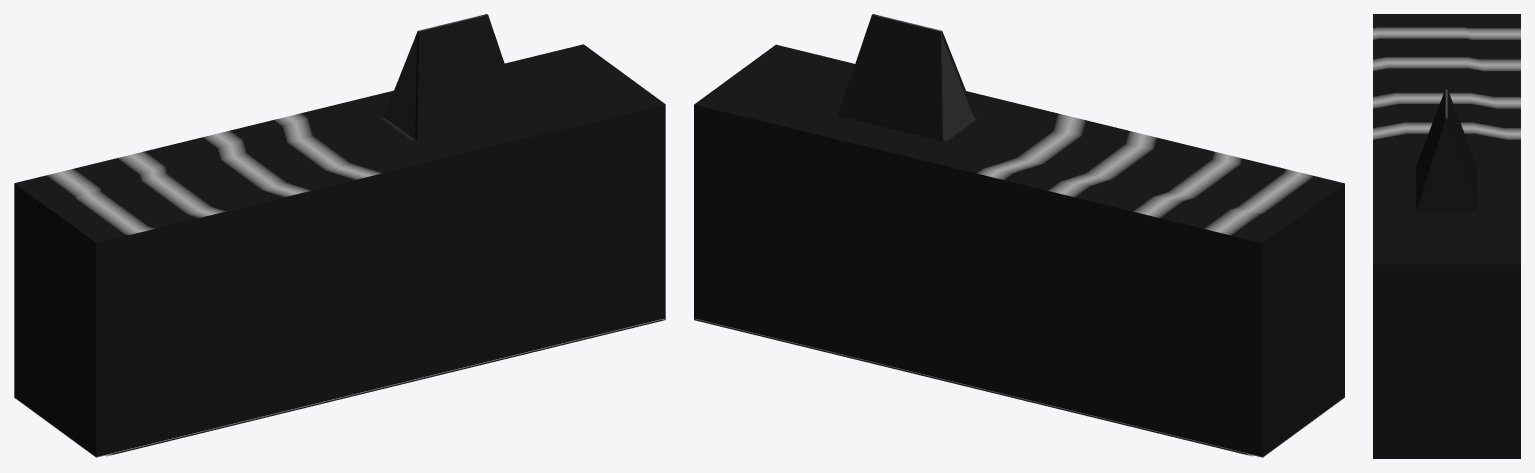
Rendered from Gun.obj.
3 renders of one model, left to right at view 1: azimuth 30°, elevation 25°; view 2: azimuth 150°, elevation 25°; view 3: azimuth 270°, elevation 25°, orthographic. The views are drawn at different scales.
Visible parts, largest first — view 1: Cube; view 2: Cube; view 3: Cube.
Boxes of the visible parts, x1,y1,x2,y2 form: Cube: (14,14,665,457); Cube: (694,14,1344,457); Cube: (1373,14,1520,458).
Bounding box in the file's own units: 1.79 × 0.9302 × 0.4468.
Materials: 1 (1 with a texture image).
